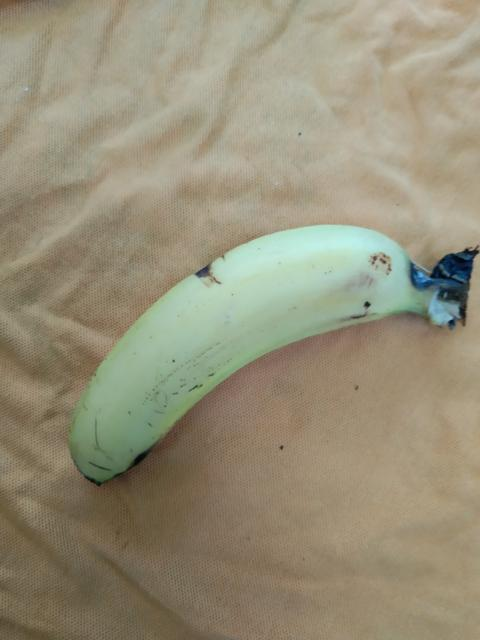ripe: (66, 214, 420, 490)
